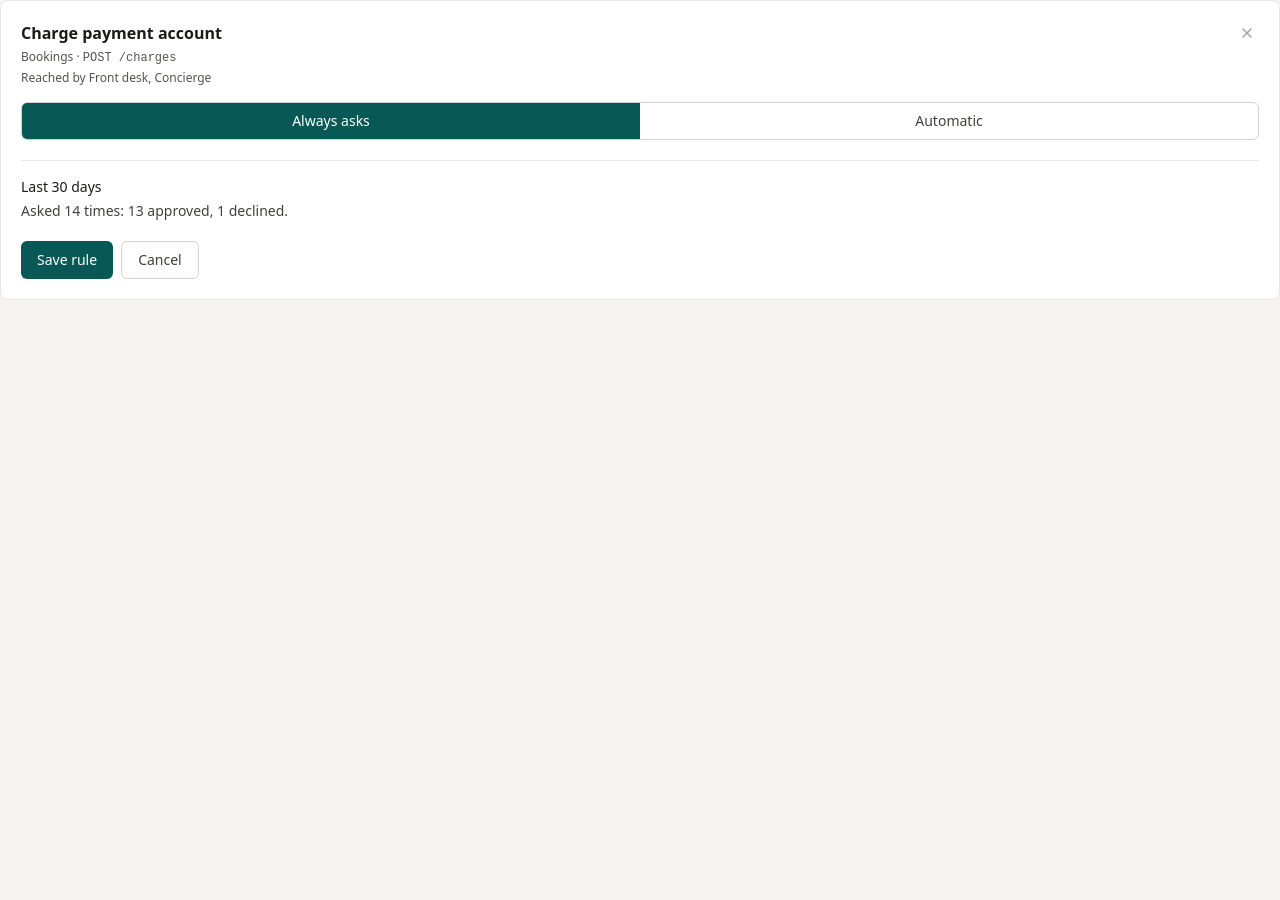
Scenario: ApprovalRulePanel › refuses an amount that is not one before asking the API
Click the radio button labelled "Automatic": (949, 121) [640,103,1258,139]
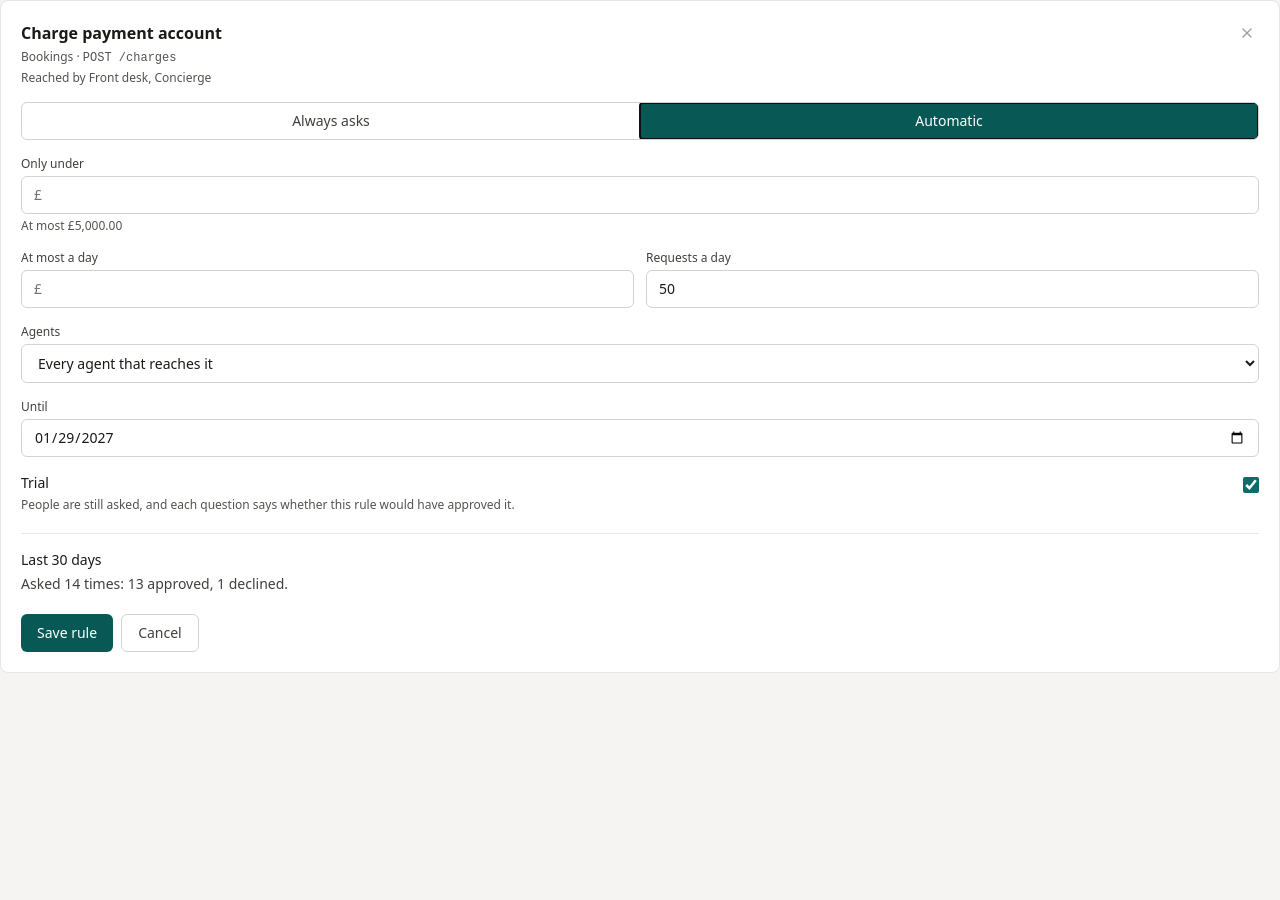
In the field labelled "Only under": (650, 195) [42,177,1258,213], type "fifty"
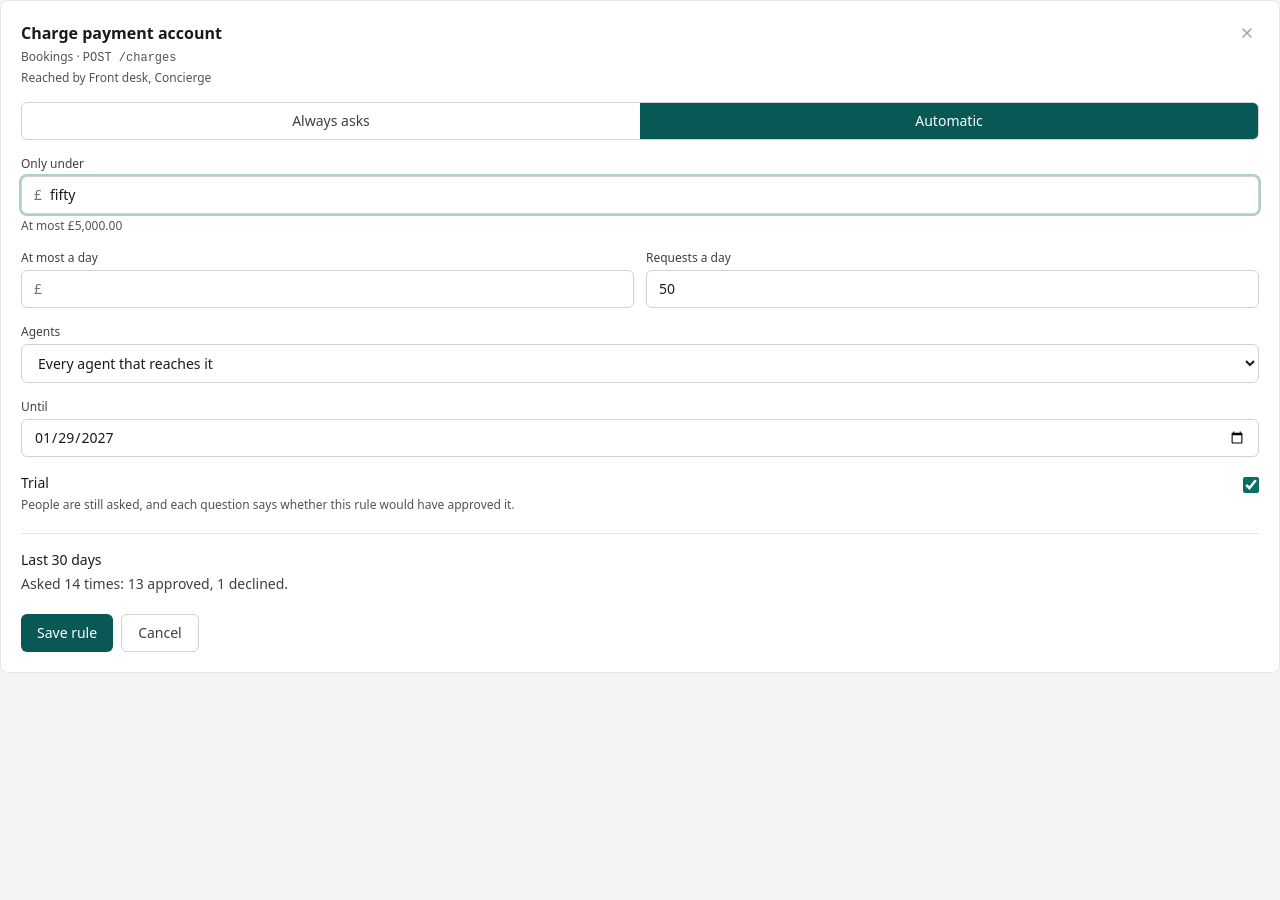
Click the button "Save rule": (67, 633) [21,614,113,652]
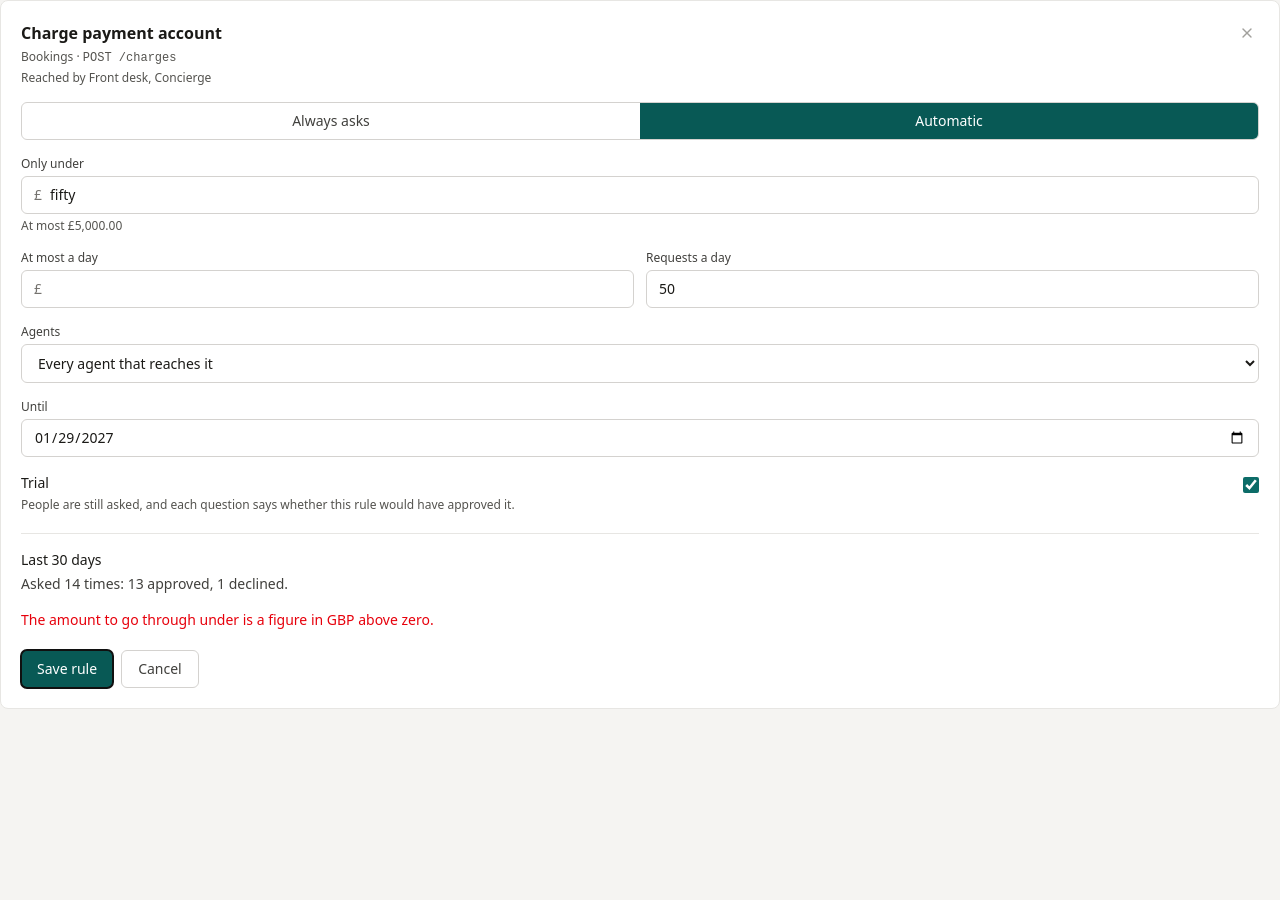
Expected: the message shows "figure in GBP", [21,610,434,629]
